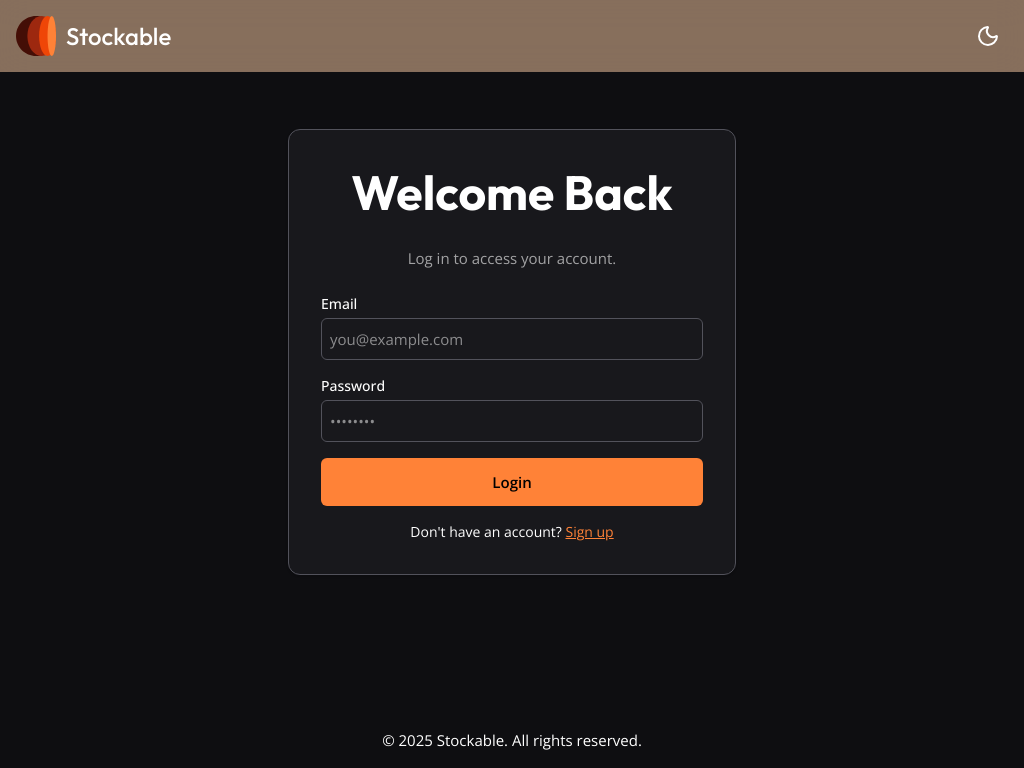
Scenario: AuthPage.vue › displays register title when register link is clicked
What coordinates should you click on to do the following:
click the link "Sign up"
I would click on:
 (590, 532)
Its box is x1=566 y1=522 x2=614 y2=541.
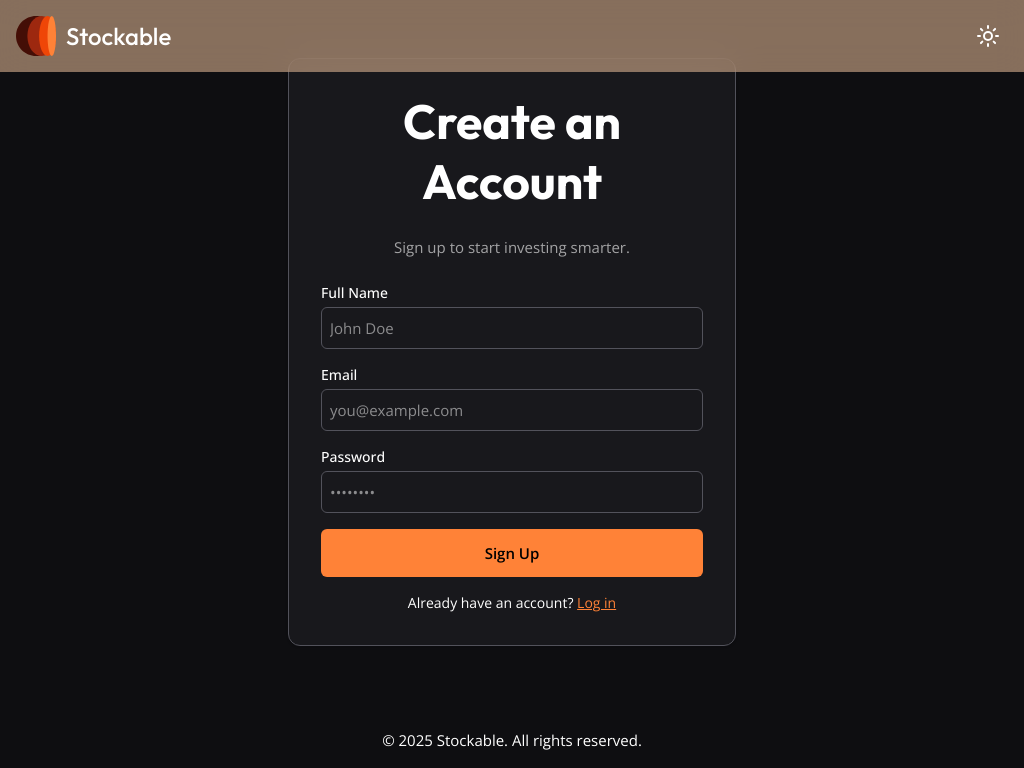
Result: the heading "Create an Account" is shown at x1=403 y1=91 x2=621 y2=211
